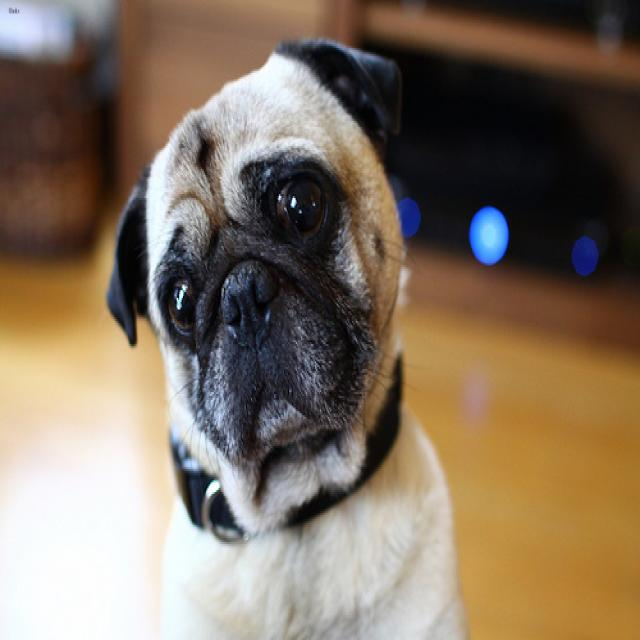dog-pug: (95, 25, 480, 636)
